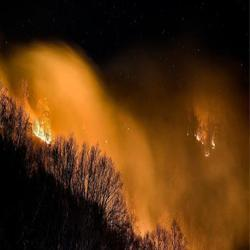fire: (33, 122, 65, 142)
